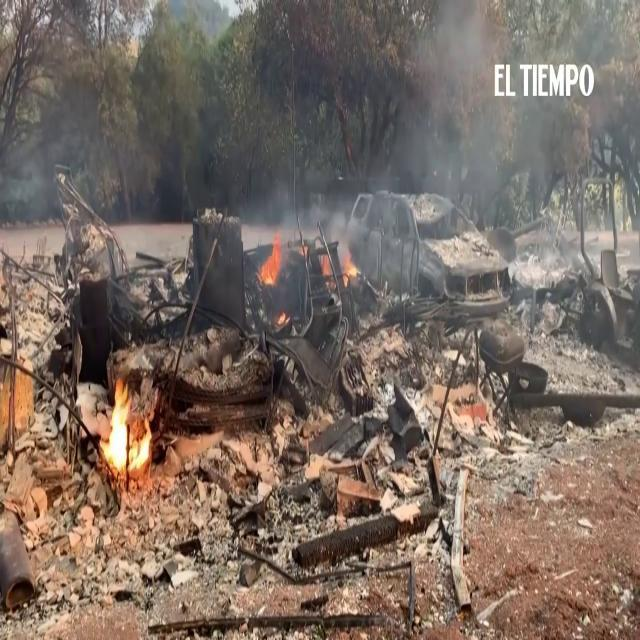Fire: (258, 234, 286, 294), (113, 398, 131, 466)
